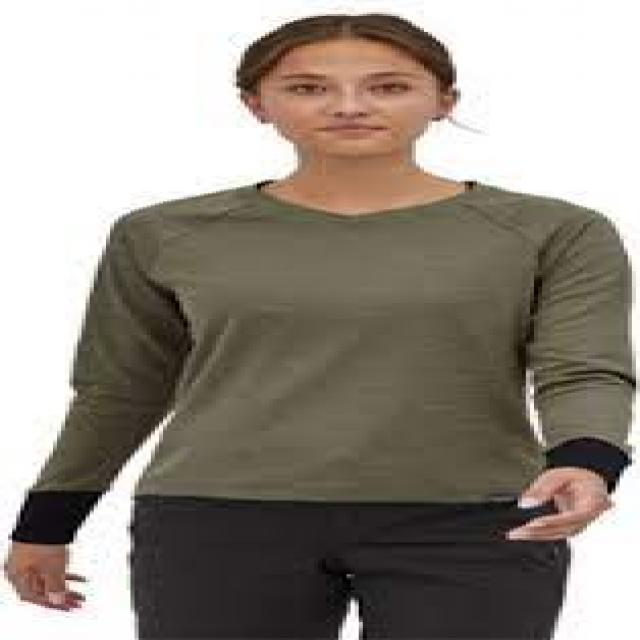plain: (47, 170, 638, 506)
